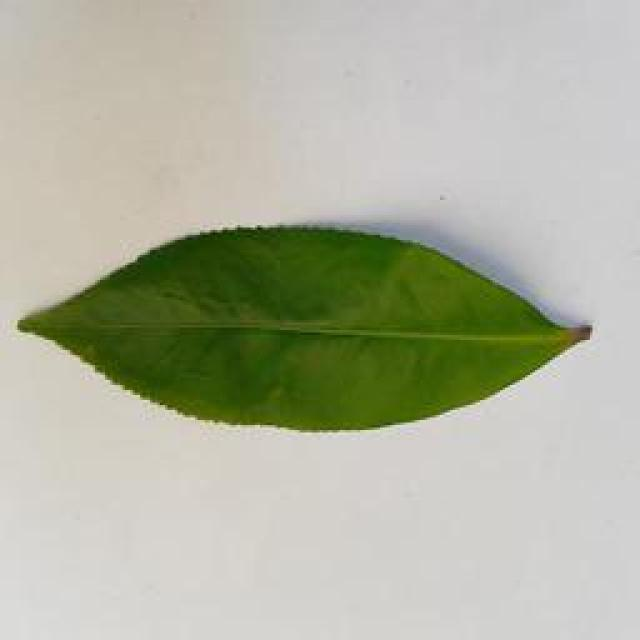Healthy: (7, 221, 599, 459)
